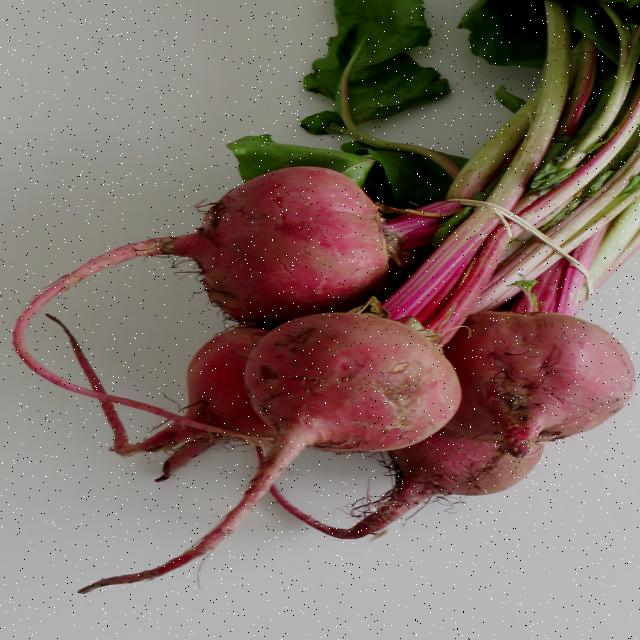Beetroot: (190, 296, 455, 526), (110, 145, 416, 320), (448, 272, 636, 463)
